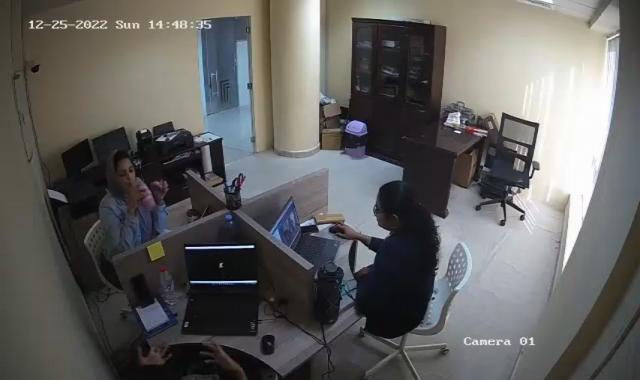no_hairnet: (372, 180, 420, 231), (105, 150, 136, 193)
